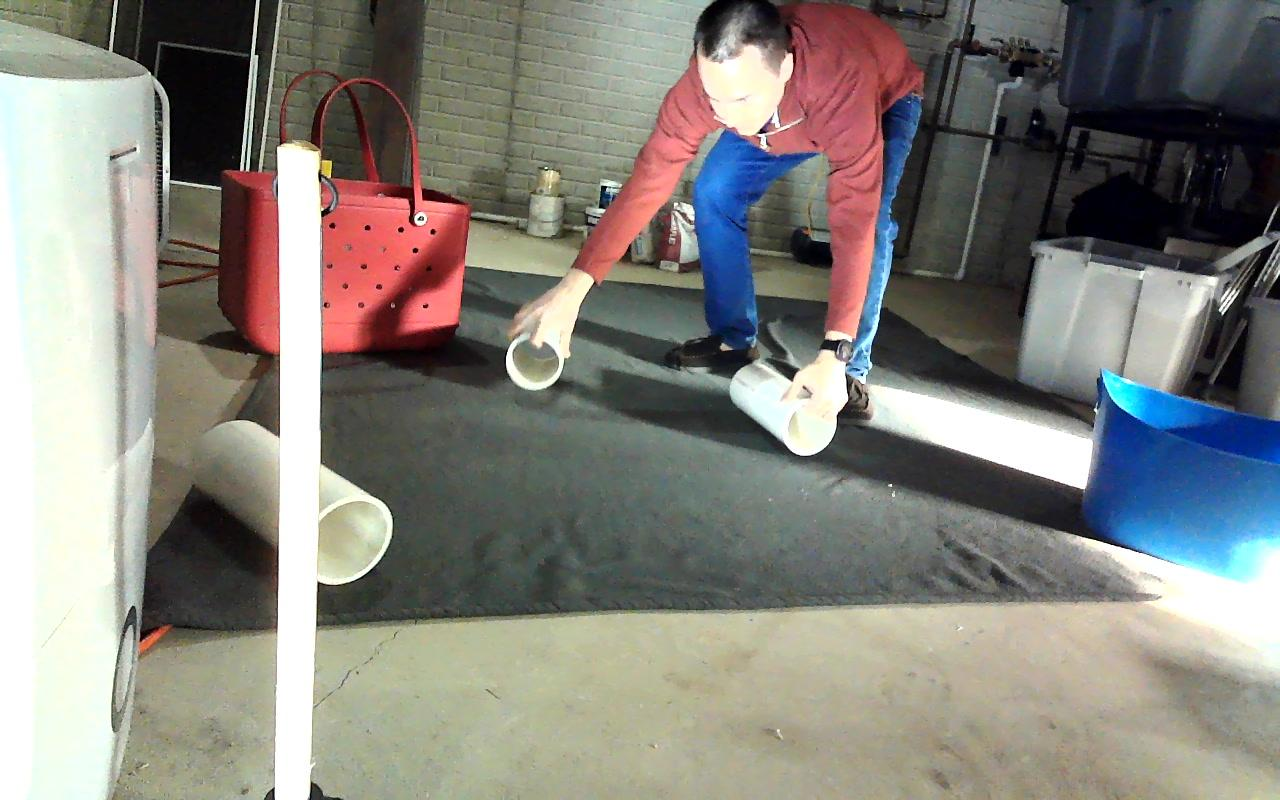coral: (189, 420, 392, 582), (729, 363, 836, 455), (506, 311, 564, 390)
